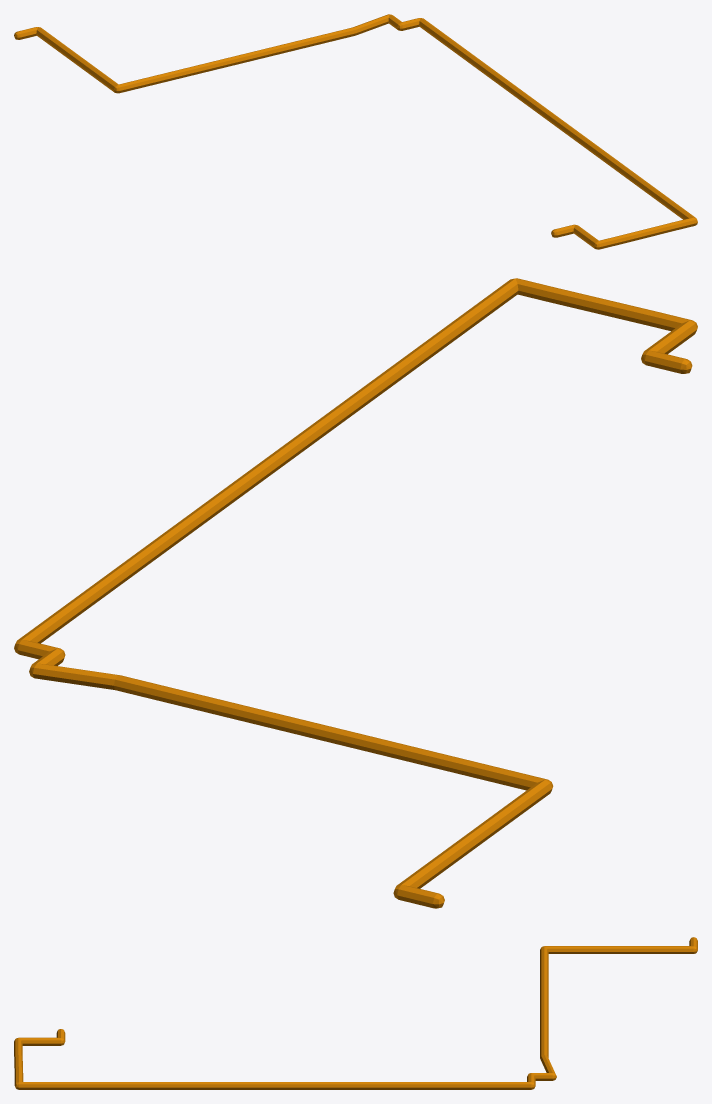
3 views of the same model, one above another, from view 1: azimuth 30°, elevation 25°; view 2: azimuth 150°, elevation 25°; view 3: azimuth 270°, elevation 25° (orthographic). The views are drawn at different scales.
Bounding box in the file's own units: 822 × 20 × 1602.
